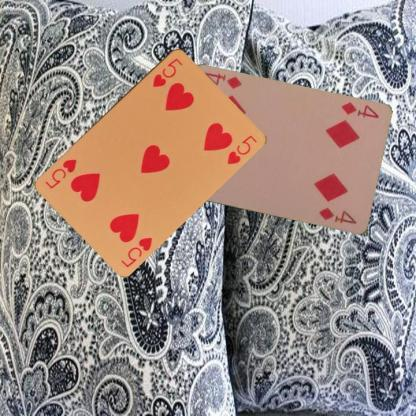4d: (338, 100, 380, 121)
5h: (118, 234, 154, 268), (150, 55, 184, 88)
